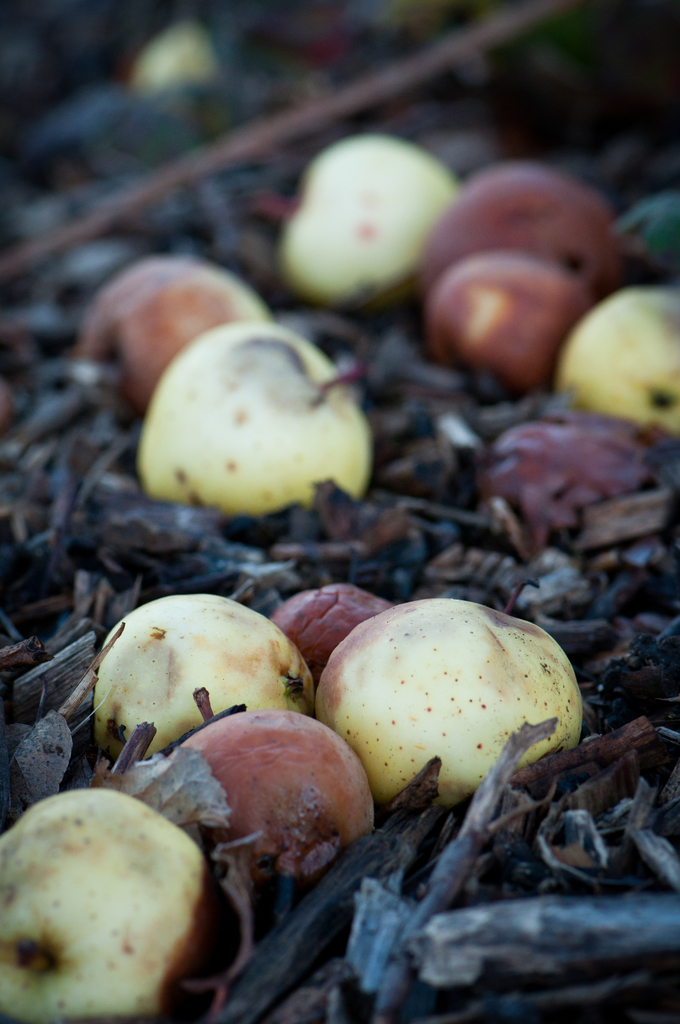Apple: (316, 599, 578, 843), (0, 786, 206, 1020), (137, 318, 375, 508), (168, 707, 376, 888), (91, 593, 313, 758), (277, 139, 464, 312), (80, 252, 282, 412), (408, 167, 626, 300), (413, 252, 593, 384), (553, 286, 679, 438), (273, 583, 394, 669)
